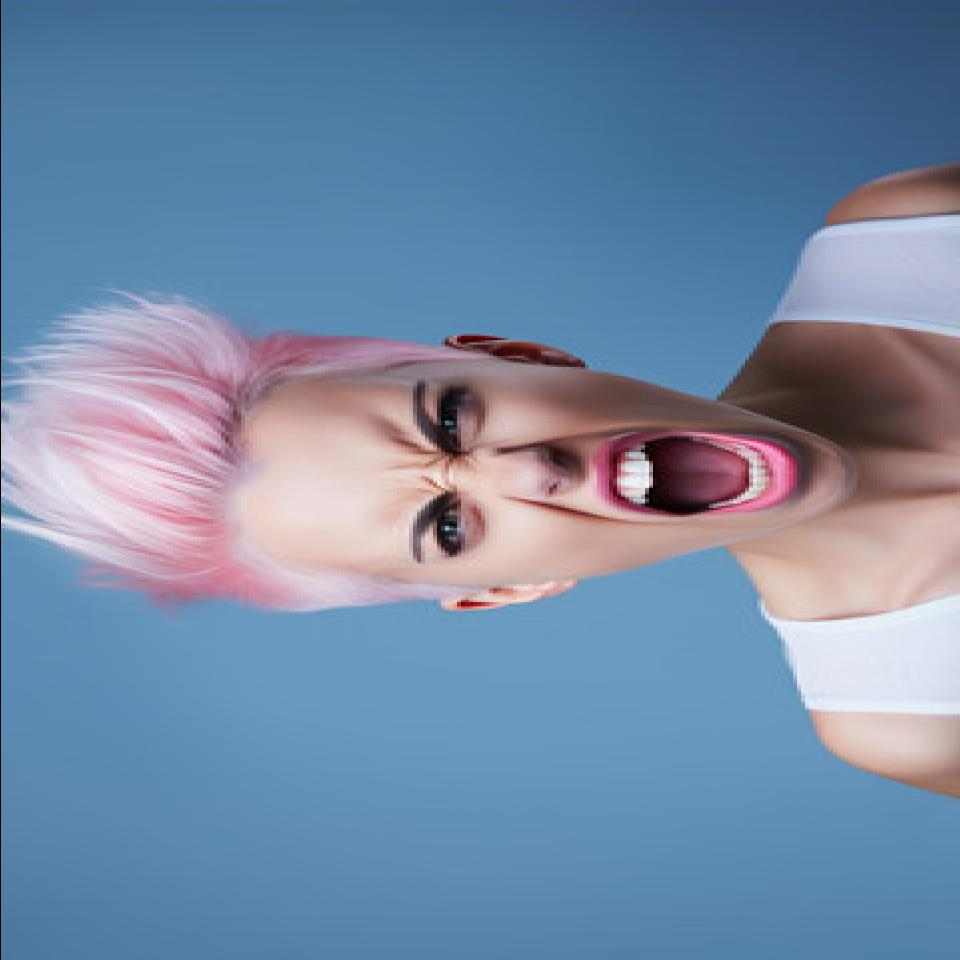Anger: (266, 359, 852, 582)
